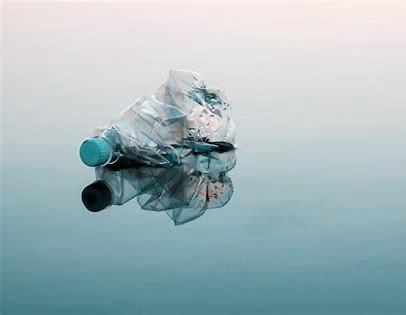Plastic: (80, 67, 234, 168)
